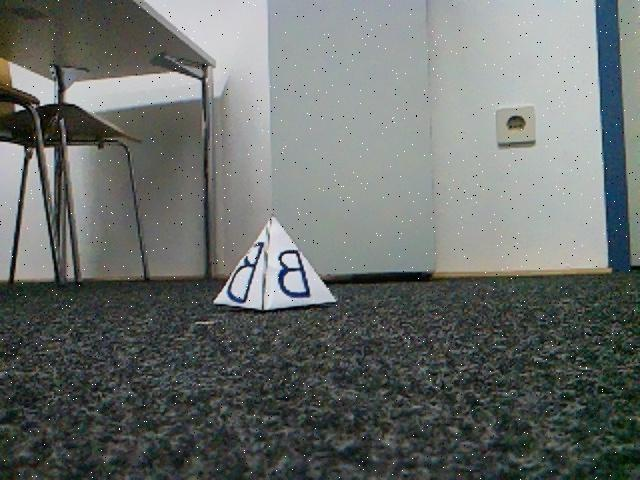B: (213, 213, 335, 312)
